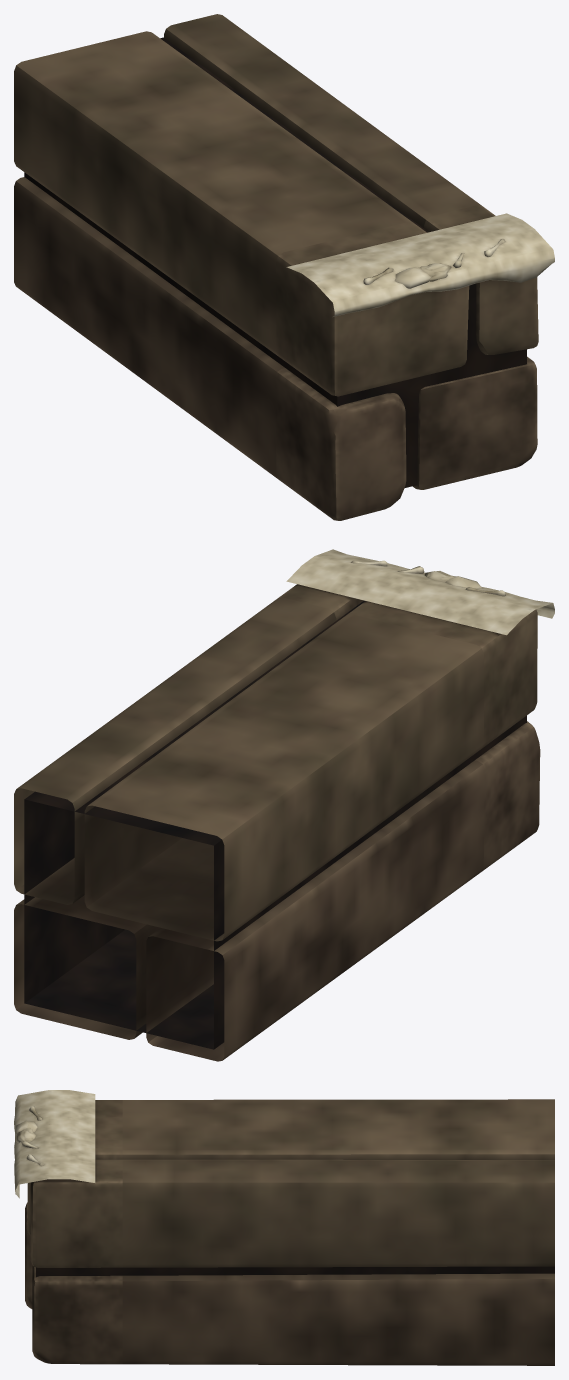
Rendered from Ossuary_Top_B.fbx.
The picture shows the model from 3 angles, top to bottom: view 1: azimuth 30°, elevation 25°; view 2: azimuth 150°, elevation 25°; view 3: azimuth 270°, elevation 25°; orthographic projection. The views are drawn at different scales.
Parts seen in each view (by area): view 1: Ossuary_Top_B; view 2: Ossuary_Top_B; view 3: Ossuary_Top_B.
Part boxes in pixels (x1,y1,x2,y2): Ossuary_Top_B: (14,14,554,520); Ossuary_Top_B: (14,549,554,1061); Ossuary_Top_B: (14,1090,554,1365).
Bounding box in the file's own units: 1 × 1.02 × 2.57.
